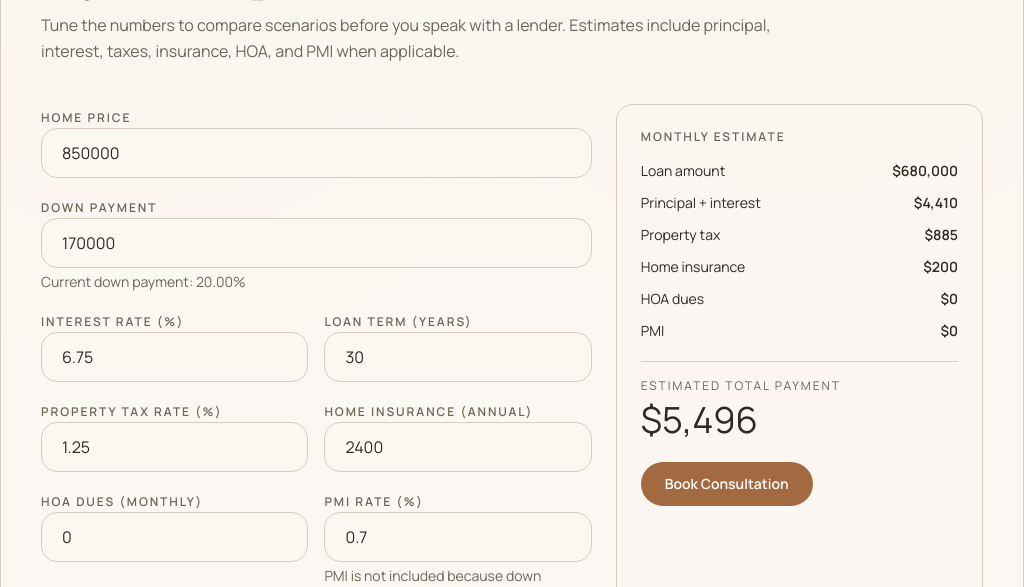
Test: MortgageCalculator › shows PMI helper copy based on down payment threshold
Replace the text in the number field labelled "Down Payment Current down payment: 20.00%" with "100000": (316, 243) [41,218,592,268]
(page scrolled)
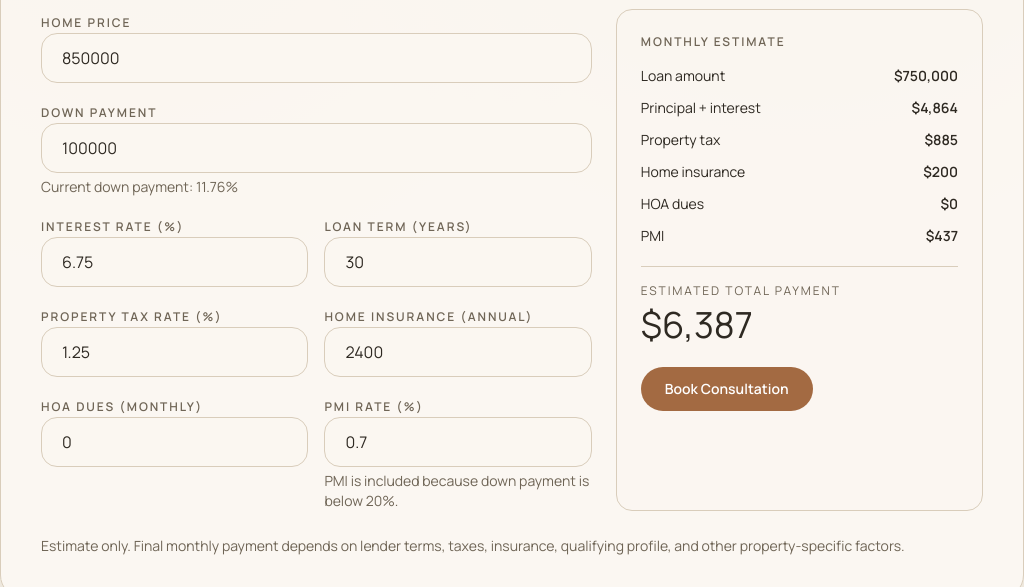
Now the text "PMI is included because down payment is below 20%." is shown, box [324,471,592,511]
